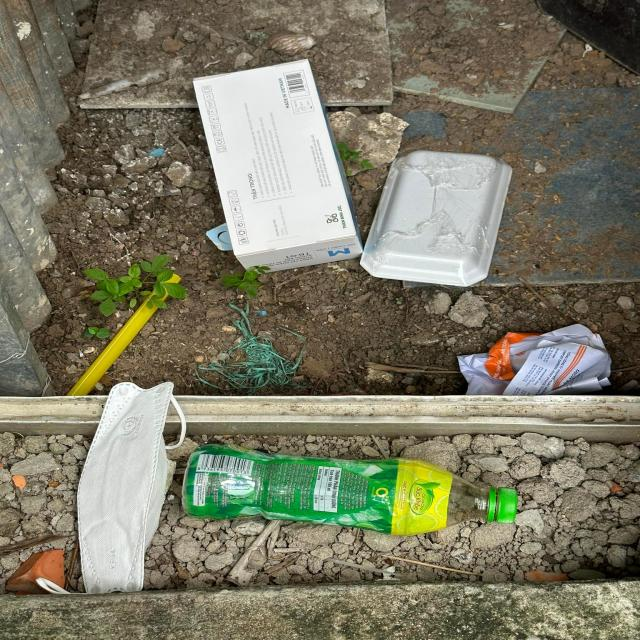bottle: (182, 444, 518, 536)
cardboard box: (192, 59, 364, 275)
drinking straw: (66, 273, 182, 396)
foam box: (360, 150, 513, 288)
mask: (36, 382, 187, 594)
paper: (457, 324, 611, 396)
